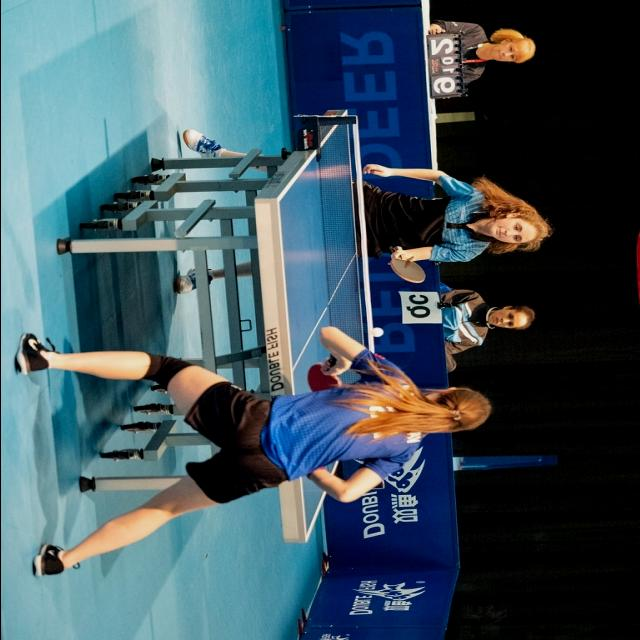TT Net: (311, 117, 381, 399)
TT Racket: (296, 353, 353, 410), (373, 241, 434, 290)
TT Table: (271, 113, 381, 538)
